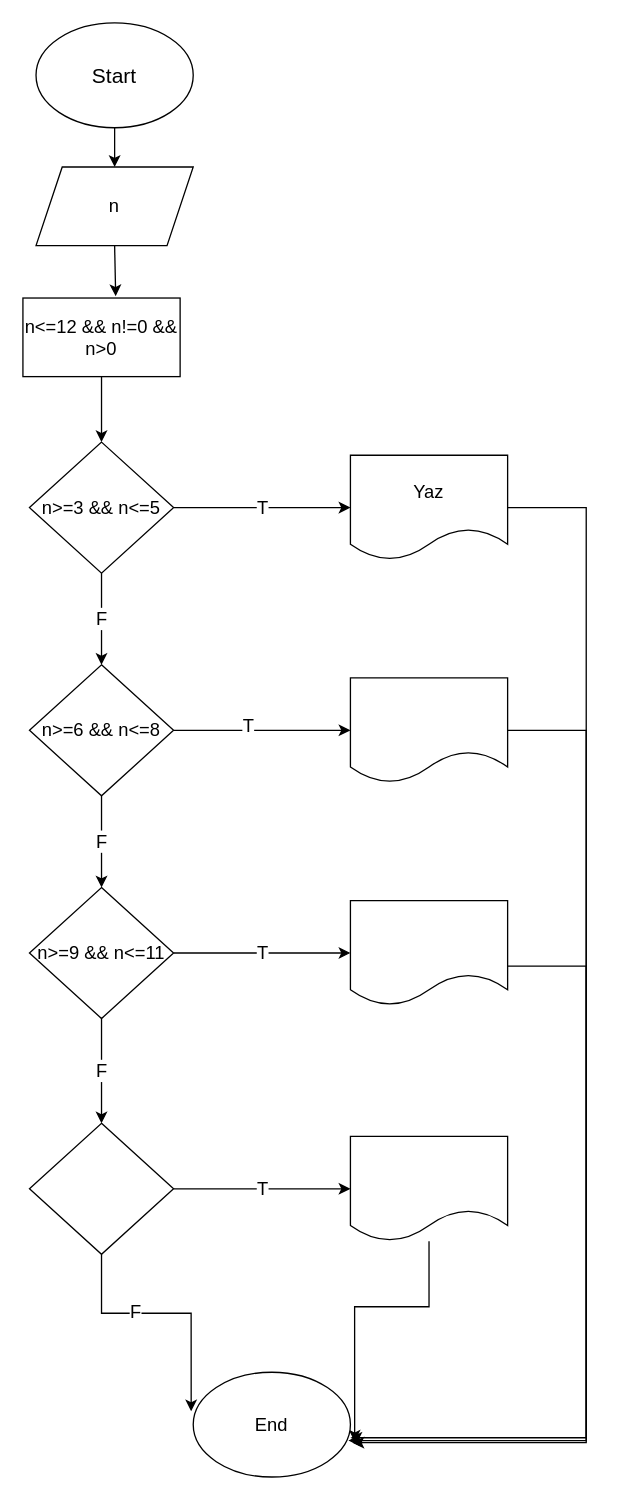
Image size: 620x1500. Some labels were removed from this diagram. The box of each missing label's shape, as (x1, y1, x2, y2) in pixels:
n<=2 || n==12: (28, 1122, 174, 1254)
Payiz: (349, 899, 508, 1005)
Qis: (349, 1135, 508, 1241)
Yay: (349, 677, 508, 783)
